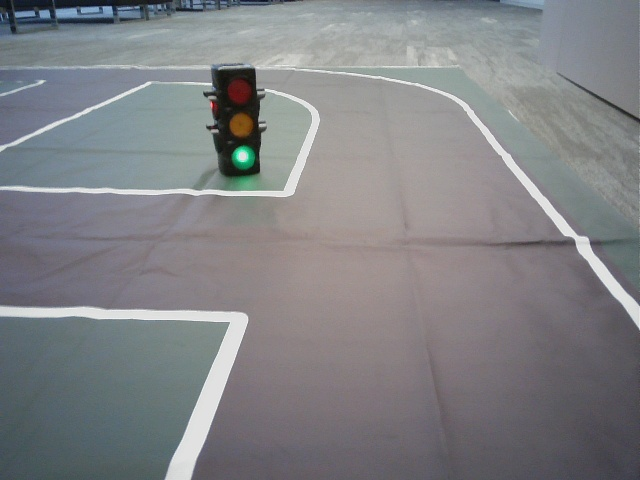green: (216, 70, 260, 173)
